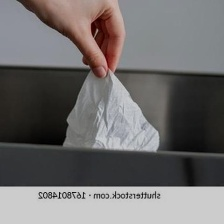tissue: (57, 61, 164, 157)
